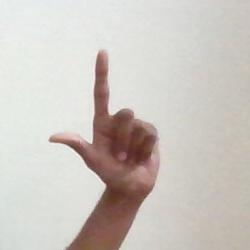L: (33, 30, 191, 248)
